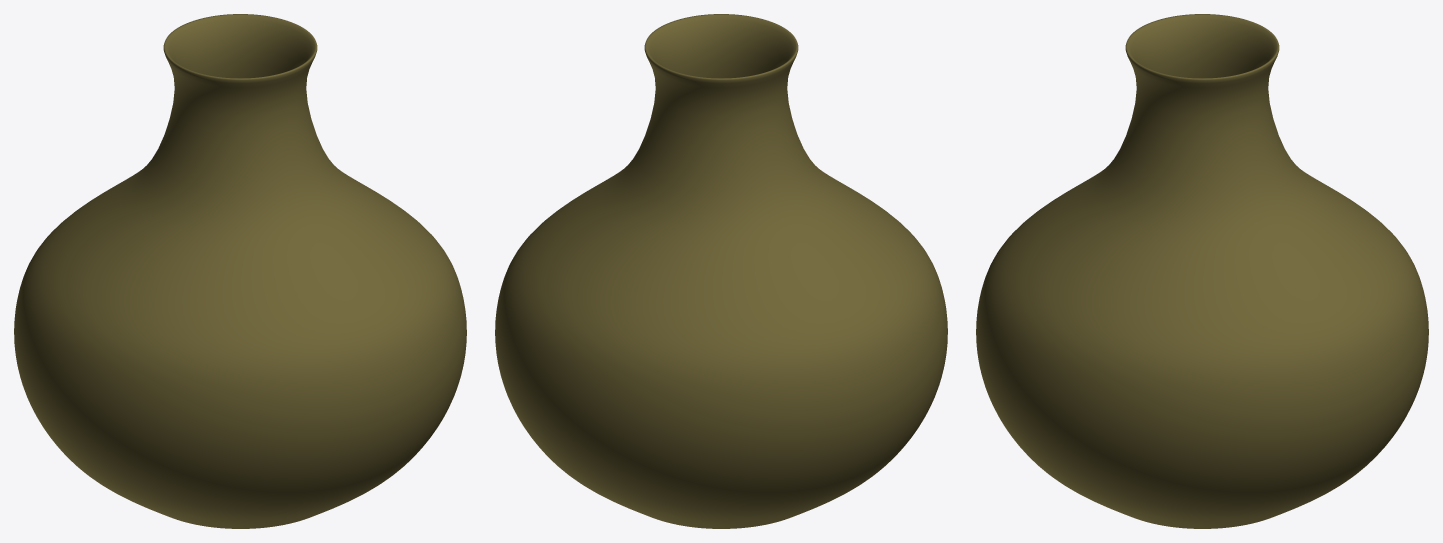
File: pod2.fbx
3 views of the same model, side by side, from view 1: azimuth 30°, elevation 25°; view 2: azimuth 150°, elevation 25°; view 3: azimuth 270°, elevation 25° (orthographic).
Visible parts, largest first — view 1: Pot_2; view 2: Pot_2; view 3: Pot_2.
Part boxes in pixels (bbox=[...]): Pot_2: bbox=[14, 14, 466, 528]; Pot_2: bbox=[495, 14, 947, 528]; Pot_2: bbox=[976, 14, 1428, 528].
Bounding box in the file's own units: 115 × 123 × 115.
